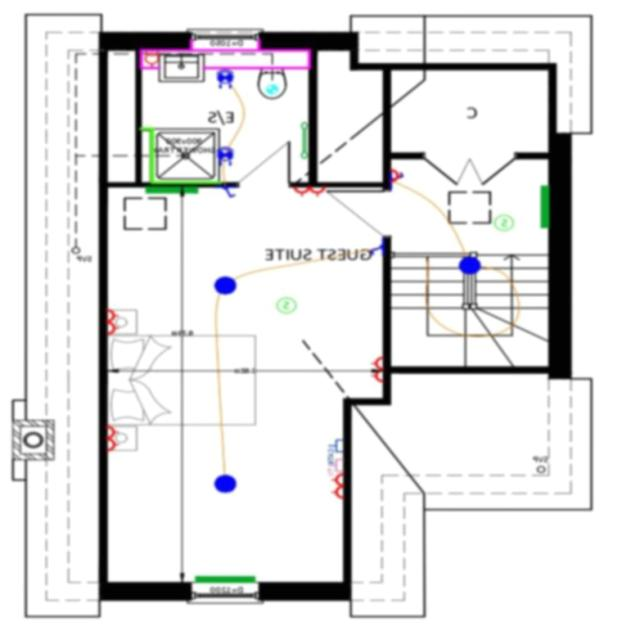Cat 6 Data Socket: (329, 438, 344, 458)
Ceiling Mounted Continuous Extract FanWith Boost Mode Activated By Light Switch: (267, 83, 279, 94)
Double Socket: (294, 184, 327, 197), (109, 307, 122, 336), (371, 355, 384, 382), (108, 424, 121, 450), (332, 472, 344, 499)
Full Height Tiling: (142, 127, 221, 184)
Light Switch: (372, 242, 384, 257), (391, 170, 404, 183), (224, 186, 238, 197)
Low Energy Downlighter: (218, 143, 236, 166), (219, 68, 234, 89)
Low Energy Pendant Light: (215, 473, 239, 493), (215, 275, 238, 295), (459, 256, 484, 274)
Mains Wired Smoke Detector: (494, 213, 516, 231), (277, 296, 298, 313)
Radiator: (196, 574, 257, 582), (146, 185, 199, 193), (542, 184, 550, 228)
Shaver Socket: (145, 50, 160, 67)
Single Socket: (392, 168, 405, 182)
TV - Satellite Multisocket: (330, 458, 347, 470)
